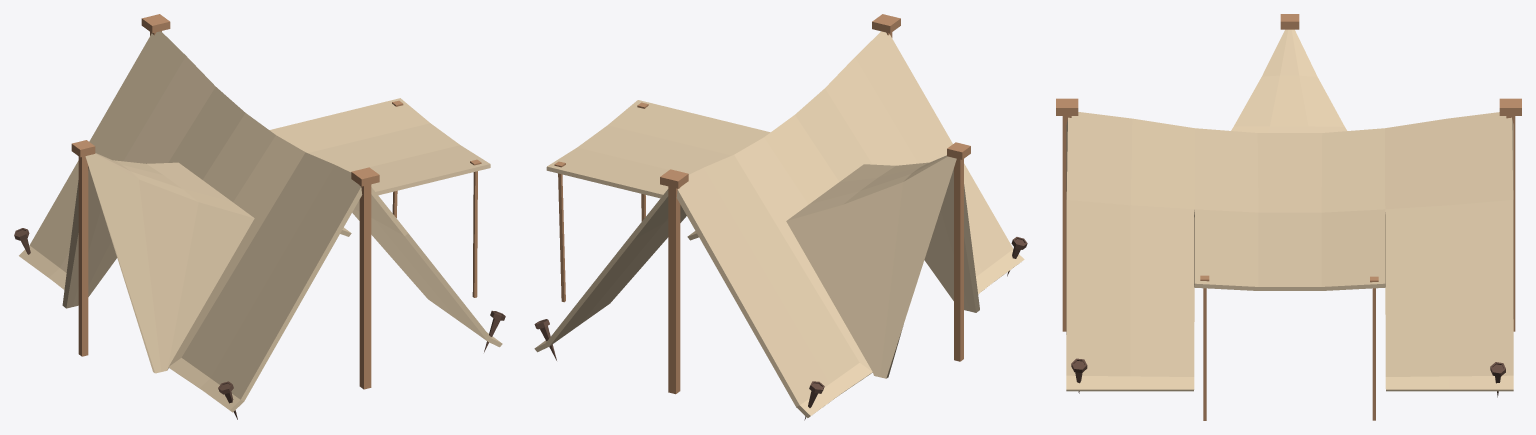
Rendered from 大帐篷.fbx.
3 renders of one model, left to right at view 1: azimuth 30°, elevation 25°; view 2: azimuth 150°, elevation 25°; view 3: azimuth 270°, elevation 25°, orthographic. The views are drawn at different scales.
Parts seen in each view (by area): view 1: Cylinder, Cube.001, Cube, Cube.002; view 2: Cylinder, Cube.016, Cube, Cube.003; view 3: Cylinder, Cube.001, Cube.016, Cube.002, Cube.003.
Boxes of the visible parts, x1,y1,x2,y2 form: Cylinder: [19, 31, 502, 412]; Cube.001: [351, 167, 379, 389]; Cube: [71, 140, 95, 356]; Cube.002: [470, 159, 481, 297]; Cylinder: [534, 31, 1024, 417]; Cube.016: [660, 169, 688, 394]; Cube: [947, 142, 970, 361]; Cube.003: [554, 161, 565, 302]; Cylinder: [1066, 29, 1513, 391]; Cube.001: [1056, 98, 1078, 331]; Cube.016: [1499, 98, 1521, 331]; Cube.002: [1200, 275, 1209, 420]; Cube.003: [1370, 276, 1378, 420].
Bounding box in the file's own units: 545 × 311 × 562.
